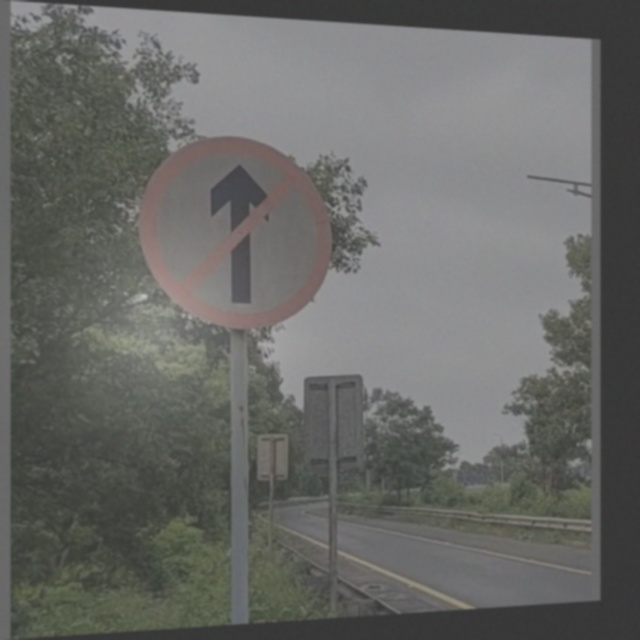No_Entry: (139, 137, 331, 327)
